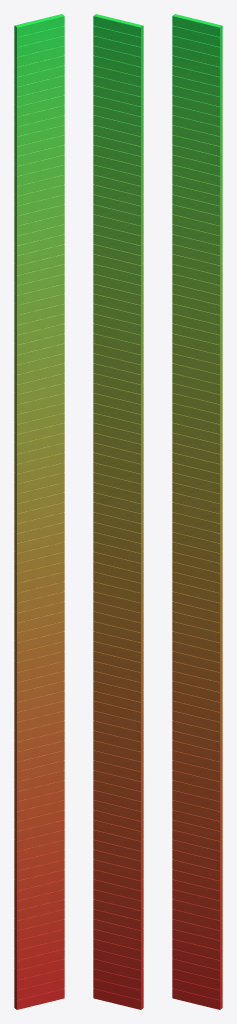
The model's file is end.fbx.
The picture shows the model from 3 angles, left to right: view 1: azimuth 30°, elevation 25°; view 2: azimuth 150°, elevation 25°; view 3: azimuth 330°, elevation 25°; orthographic projection.
Visible parts, largest first — view 1: x.099, x.012, x.036, x.039, x.066, x.079, x.092, x.093, x.009, x.016, x.022, x.025 (+87 smaller); view 2: x.099, x.012, x.036, x.039, x.066, x.079, x.092, x.093, x.009, x.016, x.022, x.025 (+87 smaller); view 3: x.099, x.012, x.036, x.039, x.066, x.079, x.092, x.093, x.009, x.016, x.022, x.025 (+87 smaller).
Boxes of the visible parts, x1,y1,x2,y2 form: x.099: (14,14,64,37); x.012: (14,879,64,900); x.036: (14,641,64,662); x.039: (14,611,64,632); x.066: (14,343,64,364); x.079: (14,214,64,235); x.092: (14,85,64,106); x.093: (14,75,64,96); x.009: (14,909,64,930); x.016: (14,839,64,860); x.022: (14,780,64,801); x.025: (14,750,64,771); x.099: (93,14,143,37); x.012: (93,879,143,900); x.036: (93,641,143,662); x.039: (93,611,143,632); x.066: (93,343,143,364); x.079: (93,214,143,235); x.092: (93,85,143,106); x.093: (93,75,143,96); x.009: (93,909,143,930); x.016: (93,839,143,860); x.022: (93,780,143,801); x.025: (93,750,143,771); x.099: (172,14,222,37); x.012: (172,879,222,900); x.036: (172,641,222,662); x.039: (172,611,222,632); x.066: (172,343,222,364); x.079: (172,214,222,235); x.092: (172,85,222,106); x.093: (172,75,222,96); x.009: (172,909,222,930); x.016: (172,839,222,860); x.022: (172,780,222,801); x.025: (172,750,222,771).
Bounding box in the file's own units: 10 × 198 × 1.
Materials: 1 (1 with a texture image).
